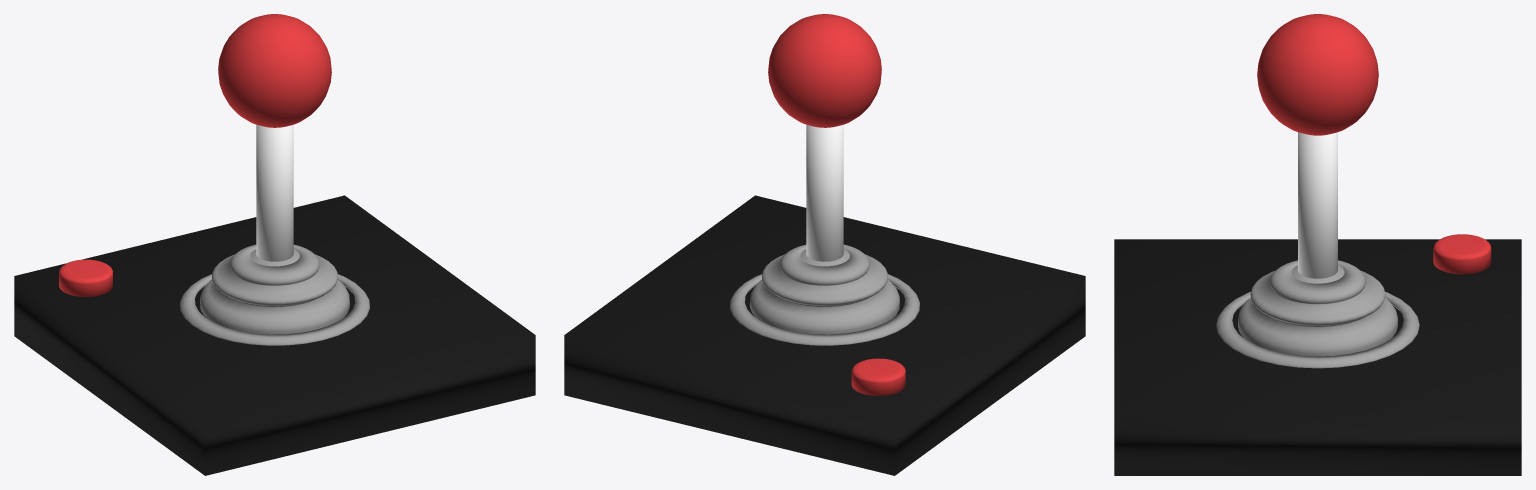
The model's file is geogames-model.glb.
The picture shows the model from 3 angles, left to right: view 1: azimuth 30°, elevation 25°; view 2: azimuth 150°, elevation 25°; view 3: azimuth 270°, elevation 25°; orthographic projection. The views are drawn at different scales.
Parts seen in each view (by area): view 1: Cube, Sphere, Cylinder.001, Cylinder, Circle, Cylinder.002; view 2: Cube, Sphere, Cylinder.001, Cylinder, Circle, Cylinder.002; view 3: Cube, Sphere, Cylinder.001, Cylinder, Circle, Cylinder.002.
Part boxes in pixels (x1,y1,x2,y2): Cube: (14, 195, 535, 475); Sphere: (218, 14, 331, 127); Cylinder.001: (200, 244, 349, 334); Cylinder: (256, 124, 293, 261); Circle: (180, 274, 369, 345); Cylinder.002: (59, 259, 112, 296); Cube: (564, 195, 1085, 475); Sphere: (768, 14, 881, 127); Cylinder.001: (750, 244, 899, 334); Cylinder: (806, 124, 843, 261); Circle: (730, 274, 919, 345); Cylinder.002: (851, 358, 905, 395); Cube: (1114, 239, 1521, 475); Sphere: (1257, 14, 1378, 135); Cylinder.001: (1238, 260, 1397, 356); Cylinder: (1298, 132, 1337, 278); Circle: (1216, 291, 1419, 368); Cylinder.002: (1433, 234, 1491, 274).
Size of the model in its own units: 0.9731 by 0.9758 by 0.9731.
